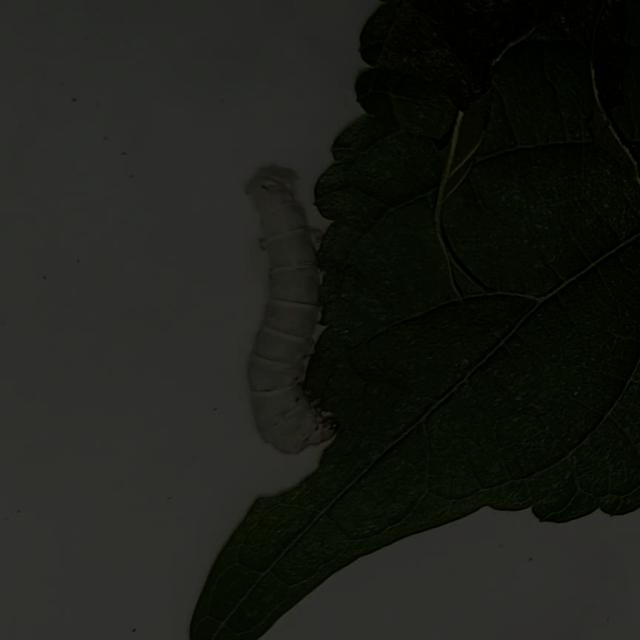Healthy: (214, 151, 364, 475)
